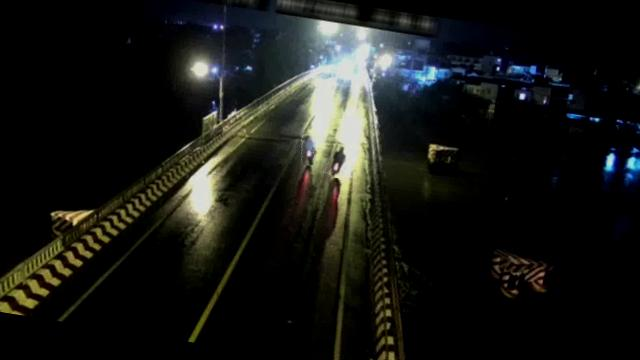Bike: (326, 140, 351, 178), (299, 134, 318, 166)
